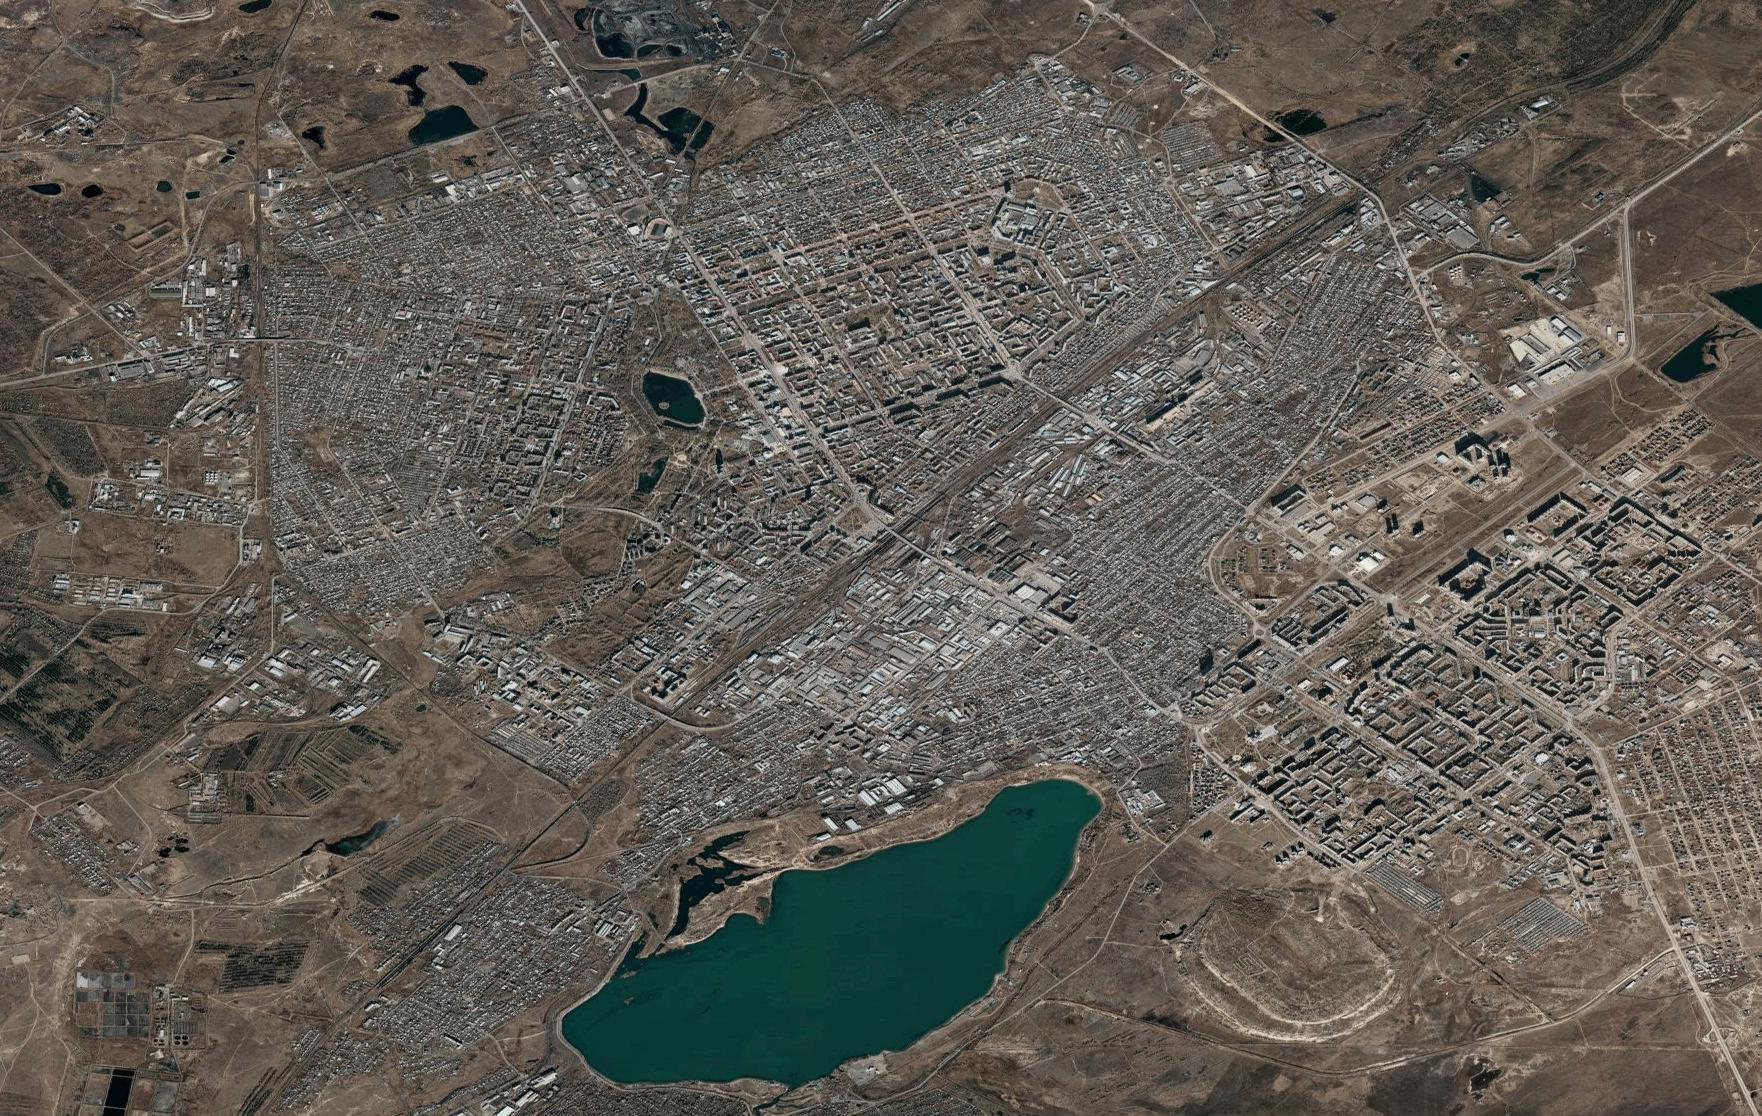train_station: (724, 598, 798, 667)
